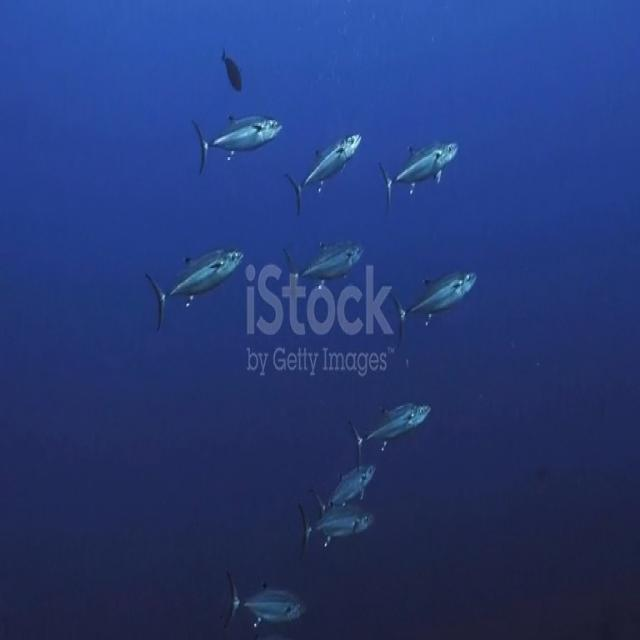fish: (142, 242, 252, 330), (392, 265, 487, 350), (274, 123, 368, 197), (376, 135, 467, 205), (345, 397, 438, 462), (191, 110, 284, 173), (288, 496, 382, 554), (286, 229, 367, 296), (224, 570, 310, 629), (308, 450, 382, 504), (217, 43, 249, 101)
